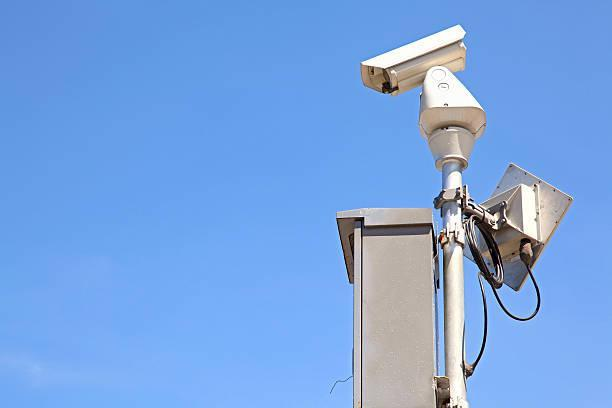------------------------------: (354, 17, 482, 96)
